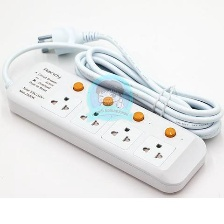three_eye_plug: (3, 56, 211, 197)
